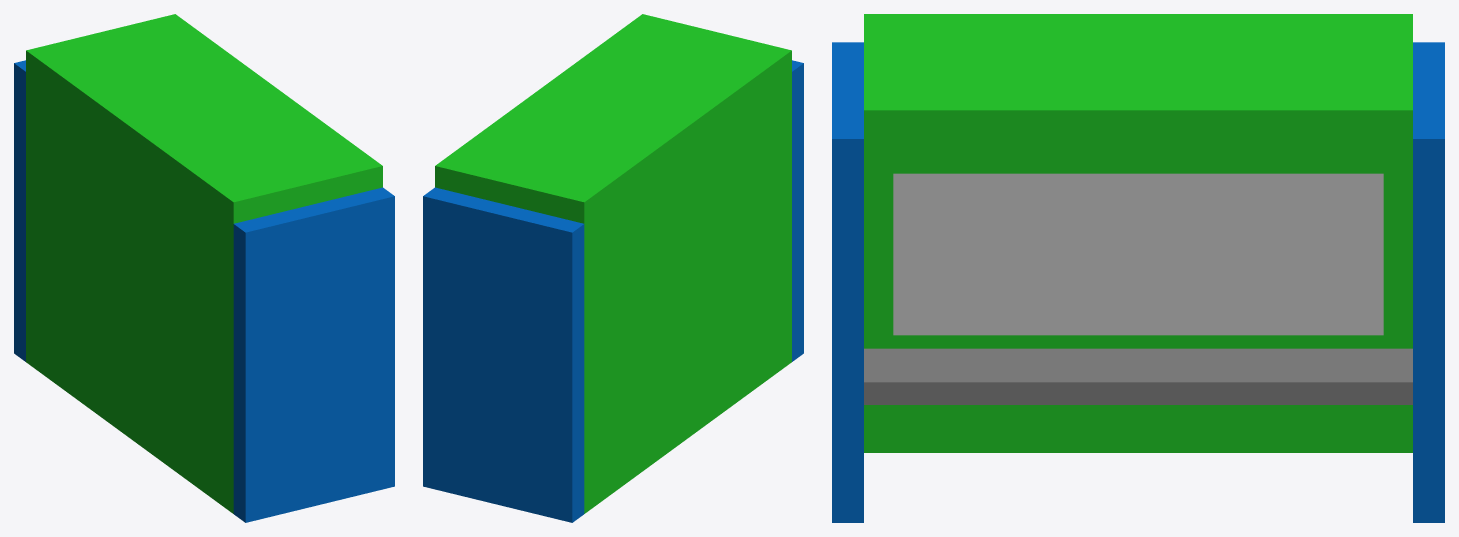
The model's file is busStop.fbx.
3 renders of one model, left to right at view 1: azimuth 30°, elevation 25°; view 2: azimuth 150°, elevation 25°; view 3: azimuth 270°, elevation 25°, orthographic. The views are drawn at different scales.
Parts seen in each view (by area): view 1: busStop; view 2: busStop; view 3: busStop.
Part boxes in pixels (x1,y1,x2,y2): busStop: (14, 14, 394, 522); busStop: (423, 14, 803, 522); busStop: (832, 14, 1444, 522).
Bounding box in the file's own units: 298 × 594 × 800.
